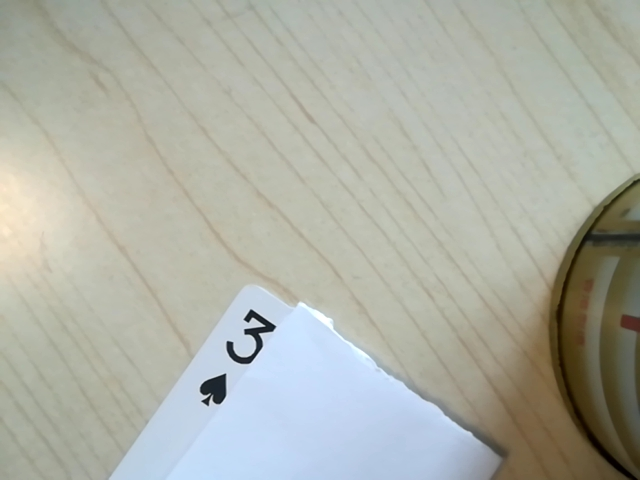ht 3: (189, 303, 287, 411)
